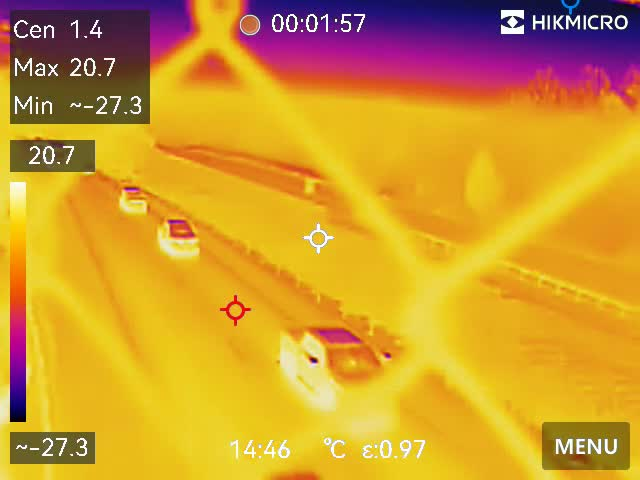lightTruck: (279, 314, 396, 414), (151, 214, 208, 252)
vehicle: (120, 178, 156, 216)
